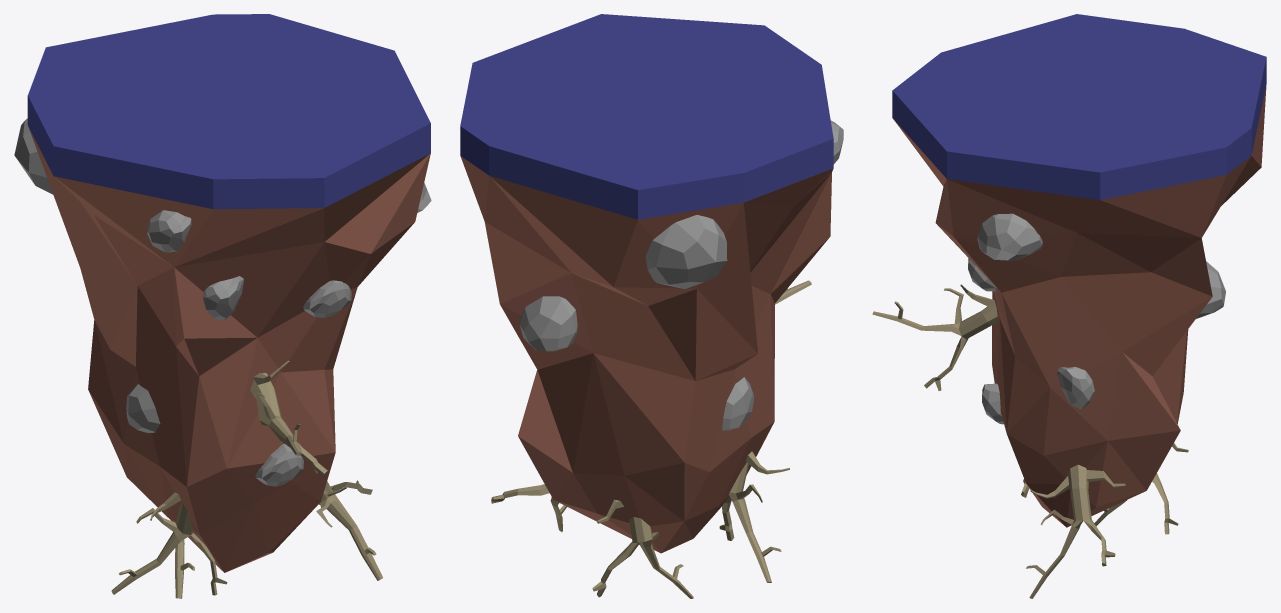
File: 01_03Island_Blue.fbx
3 views of the same model, side by side, from view 1: azimuth 30°, elevation 25°; view 2: azimuth 150°, elevation 25°; view 3: azimuth 270°, elevation 25° (orthographic). The views are drawn at different scales.
Parts seen in each view (by area): view 1: Cube.016; view 2: Cube.016; view 3: Cube.016.
Part boxes in pixels (x1,y1,x2,y2): Cube.016: (14,14,431,598); Cube.016: (460,14,843,598); Cube.016: (872,14,1266,598).
Bounding box in the file's own units: 855 × 1138 × 897.
